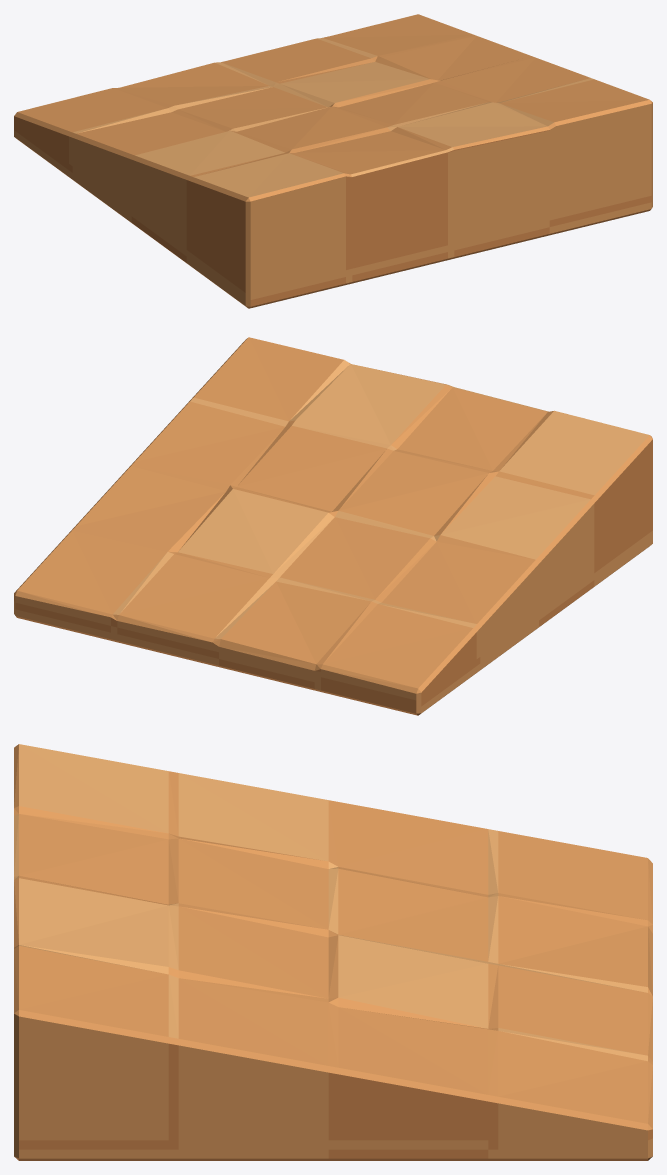
Rendered from SM_GROUND_SLOPE_01.fbx.
3 views of the same model, one above another, from view 1: azimuth 30°, elevation 25°; view 2: azimuth 150°, elevation 25°; view 3: azimuth 270°, elevation 25° (orthographic). The views are drawn at different scales.
Parts seen in each view (by area): view 1: GROUND_SLOPE_01; view 2: GROUND_SLOPE_01; view 3: GROUND_SLOPE_01.
Boxes of the visible parts, x1,y1,x2,y2 form: GROUND_SLOPE_01: (14,14,652,308); GROUND_SLOPE_01: (14,337,652,715); GROUND_SLOPE_01: (14,744,652,1160).
Bounding box in the file's own units: 4 × 4 × 1.05.
